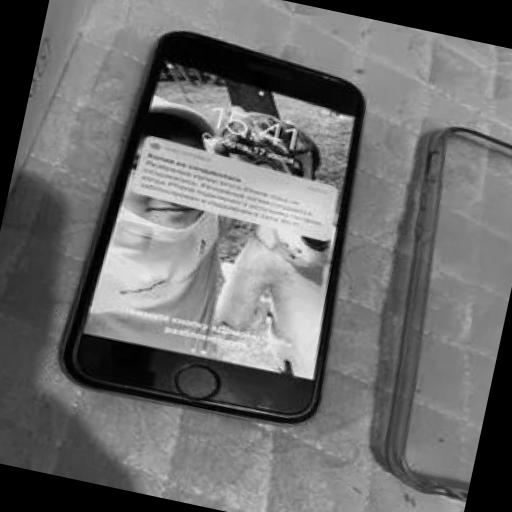phone: (58, 25, 376, 430)
